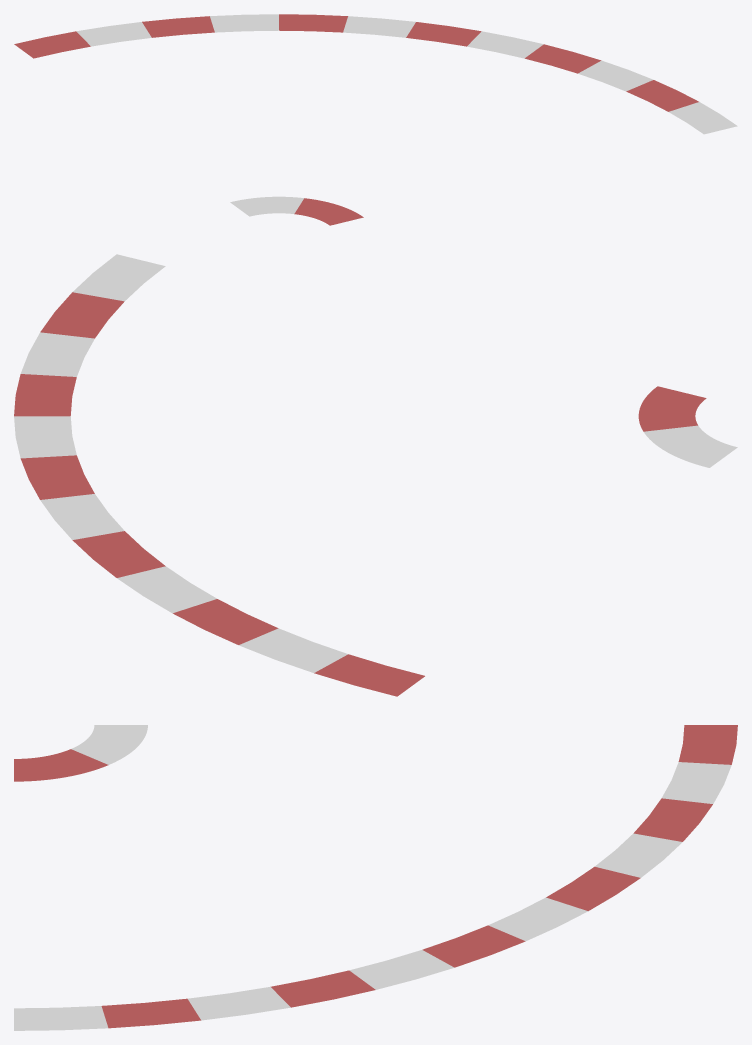
File: Corner Guides.fbx
3 renders of one model, top to bottom at view 1: azimuth 30°, elevation 25°; view 2: azimuth 150°, elevation 25°; view 3: azimuth 270°, elevation 25°, orthographic. The views are drawn at different scales.
Visible parts, largest first — view 1: Corner Guides; view 2: Corner Guides; view 3: Corner Guides.
Part boxes in pixels (x1,y1,x2,y2): Corner Guides: (14, 14, 737, 225); Corner Guides: (14, 254, 737, 696); Corner Guides: (14, 725, 737, 1030).
Bounding box in the file's own units: 2.7 × 0 × 2.7.
